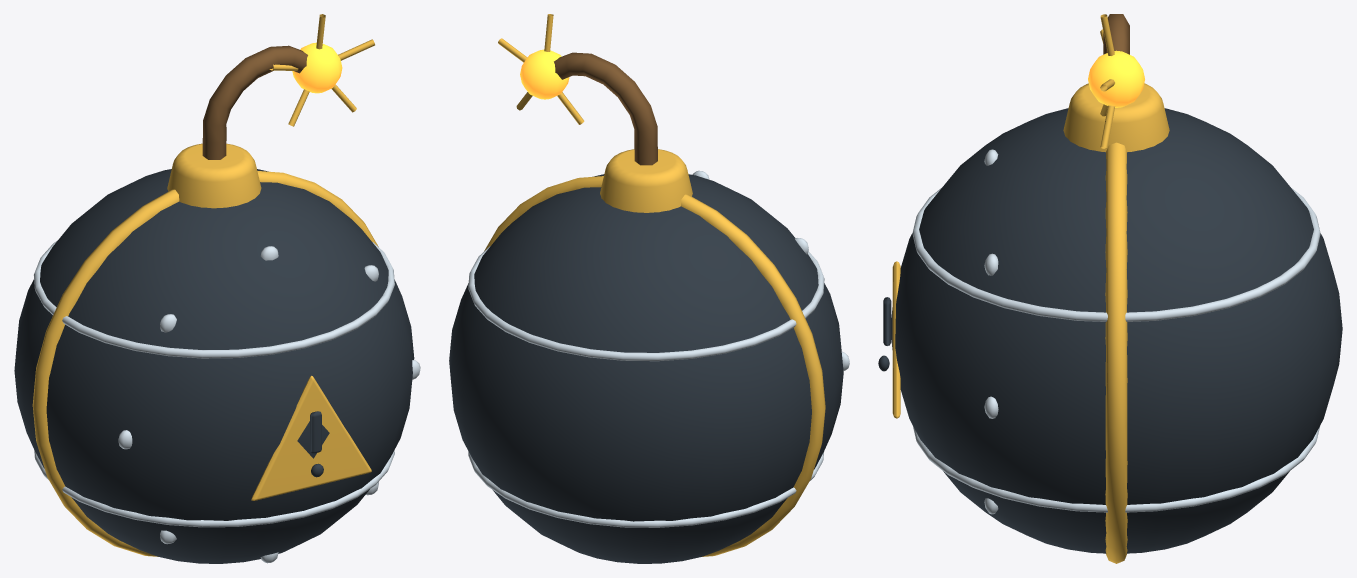
Rendered from bomb.glb.
The picture shows the model from 3 angles, left to right: view 1: azimuth 30°, elevation 25°; view 2: azimuth 150°, elevation 25°; view 3: azimuth 270°, elevation 25°; orthographic projection. The views are drawn at different scales.
Visible parts, largest first — view 1: bomb__body__Graphite, bomb__body__Gold, bomb__body__Chrome, bomb__fuse__Stem, bomb__spark__Ember, bomb__spark__Gold; view 2: bomb__body__Graphite, bomb__body__Gold, bomb__body__Chrome, bomb__fuse__Stem, bomb__spark__Ember, bomb__spark__Gold; view 3: bomb__body__Graphite, bomb__body__Gold, bomb__body__Chrome, bomb__spark__Ember, bomb__spark__Gold, bomb__fuse__Stem.
Part boxes in pixels (box(x1,y1,x2,y2)): bomb__body__Graphite: box(14, 169, 414, 563); bomb__body__Gold: box(32, 143, 378, 556); bomb__body__Chrome: box(33, 240, 420, 563); bomb__fuse__Stem: box(202, 45, 307, 159); bomb__spark__Ember: box(292, 42, 342, 93); bomb__spark__Gold: box(269, 14, 374, 126); bomb__body__Graphite: box(449, 174, 843, 563); bomb__body__Gold: box(484, 149, 825, 556); bomb__body__Chrome: box(468, 170, 849, 527); bomb__fuse__Stem: box(554, 52, 657, 165); bomb__spark__Ember: box(520, 49, 569, 99); bomb__spark__Gold: box(498, 14, 584, 124); bomb__body__Graphite: box(878, 108, 1342, 553); bomb__body__Gold: box(892, 83, 1169, 563); bomb__body__Chrome: box(912, 149, 1320, 514); bomb__spark__Ember: box(1088, 50, 1144, 107); bomb__spark__Gold: box(1100, 14, 1114, 148); bomb__fuse__Stem: box(1103, 14, 1129, 54).
Bounding box in the file's own units: 1.48 × 2.02 × 1.46.
